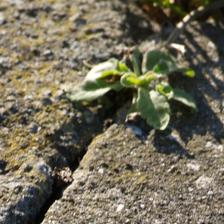Crack: (6, 55, 108, 169)
